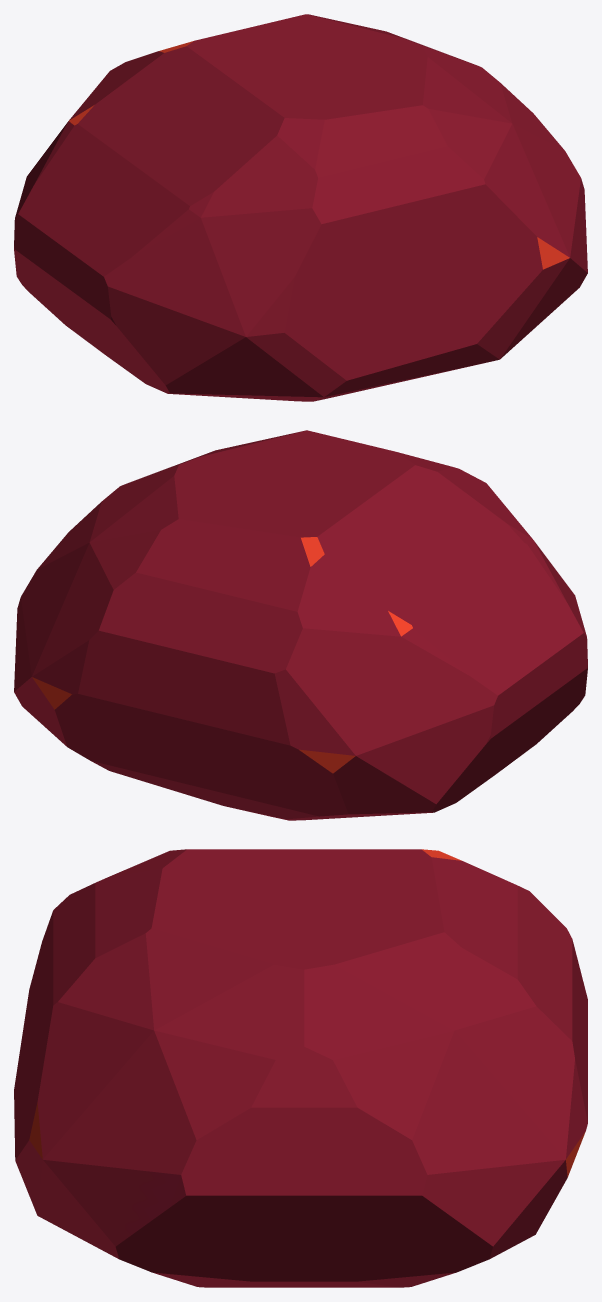
File: RockB.fbx
The picture shows the model from 3 angles, top to bottom: view 1: azimuth 30°, elevation 25°; view 2: azimuth 150°, elevation 25°; view 3: azimuth 270°, elevation 25°; orthographic projection. The views are drawn at different scales.
Parts seen in each view (by area): view 1: RockB; view 2: RockB; view 3: RockB.
Boxes of the visible parts, x1,y1,x2,y2 form: RockB: (14, 14, 587, 401); RockB: (14, 430, 587, 820); RockB: (14, 849, 587, 1287).
Bounding box in the file's own units: 237 × 128 × 208.
